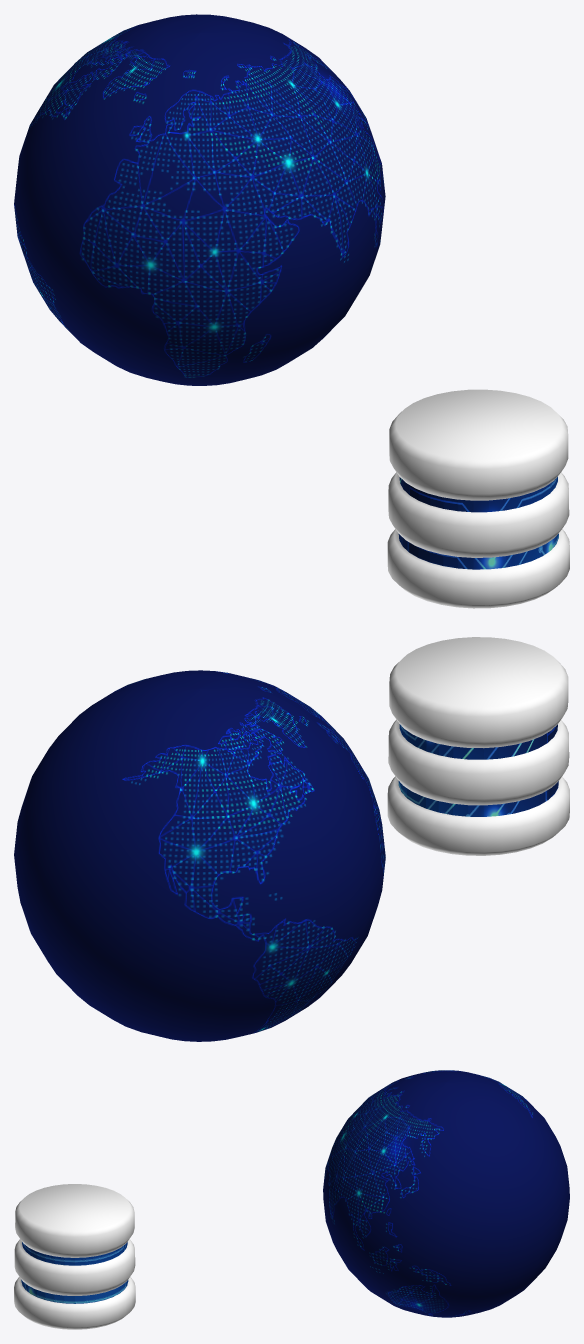
File: escena1.gltf
3 renders of one model, top to bottom at view 1: azimuth 30°, elevation 25°; view 2: azimuth 150°, elevation 25°; view 3: azimuth 270°, elevation 25°, orthographic. The views are drawn at different scales.
Parts seen in each view (by area): view 1: Sphere, Cylinder.000; view 2: Sphere, Cylinder.000; view 3: Sphere, Cylinder.000.
Part boxes in pixels (box(x1,y1,x2,y2)): Sphere: box(14, 14, 385, 385); Cylinder.000: box(387, 389, 569, 608); Sphere: box(14, 670, 385, 1041); Cylinder.000: box(387, 637, 569, 855); Sphere: box(323, 1070, 569, 1317); Cylinder.000: box(14, 1184, 135, 1329).
Size of the model in its own units: 3.99 by 3.98 by 8.98.
3 materials, 2 textured.
